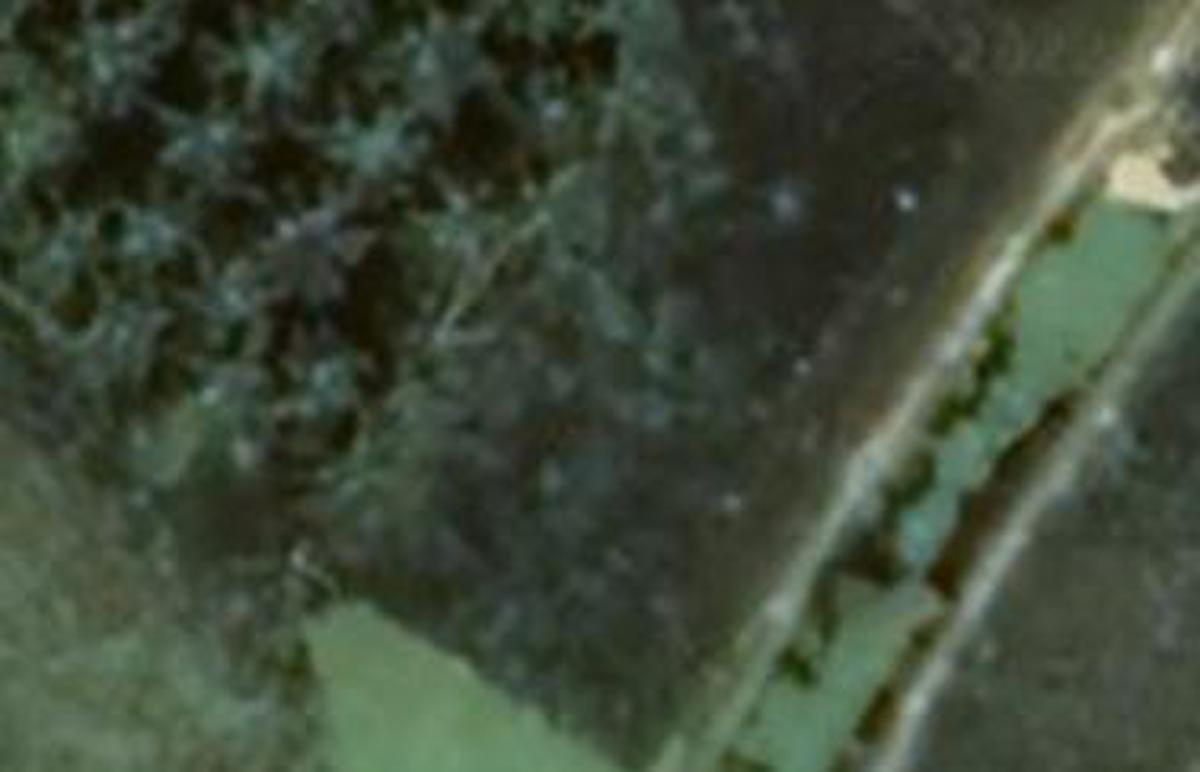coconut: (236, 194, 392, 306), (41, 9, 197, 118), (210, 12, 354, 130), (373, 6, 510, 130), (398, 175, 539, 287), (102, 172, 223, 287), (159, 95, 290, 194), (571, 51, 686, 159), (70, 296, 194, 395), (31, 178, 130, 293), (287, 325, 392, 433), (322, 111, 437, 204)
